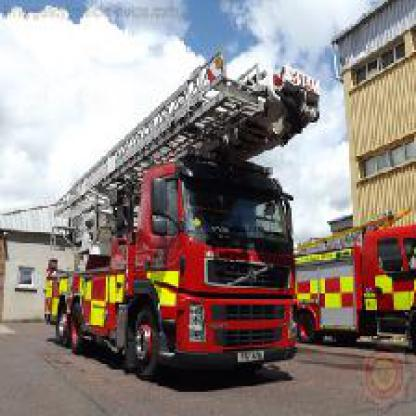emergency: (26, 46, 331, 384)
